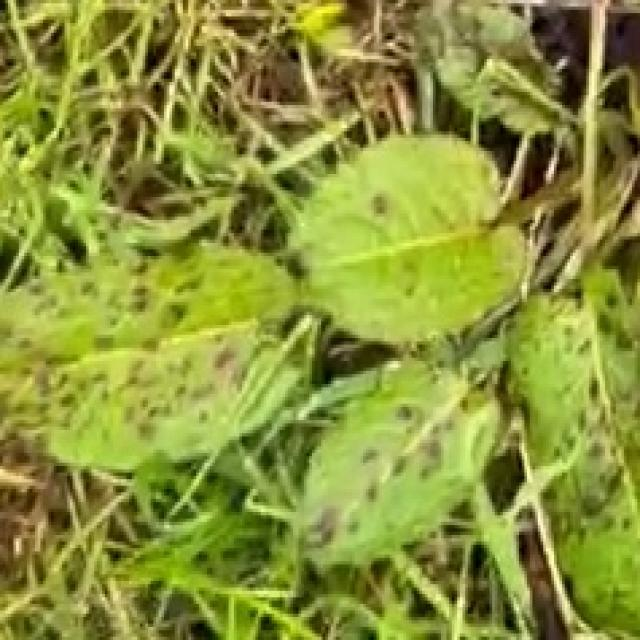organic waste: (0, 136, 640, 604)
